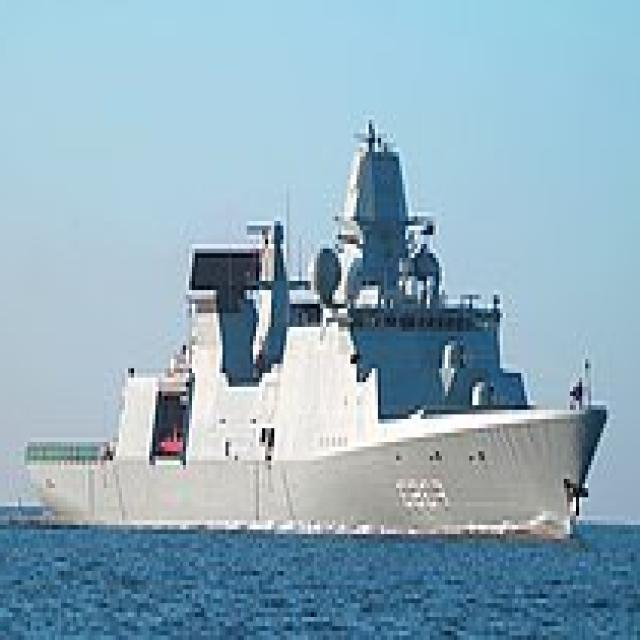Warship: (24, 111, 616, 544)
